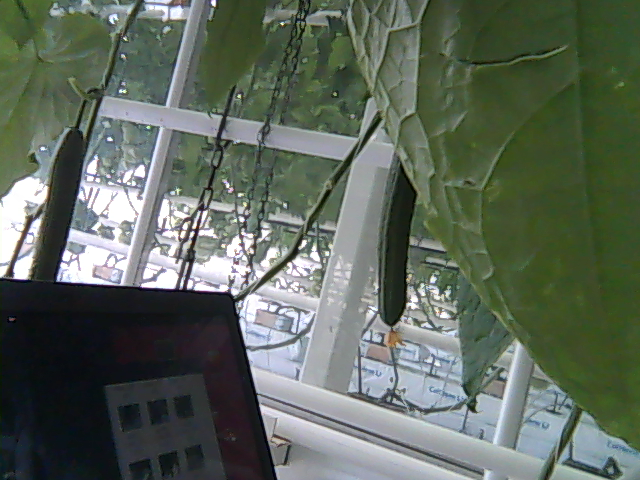concombre: (365, 148, 418, 351), (25, 122, 86, 280)
